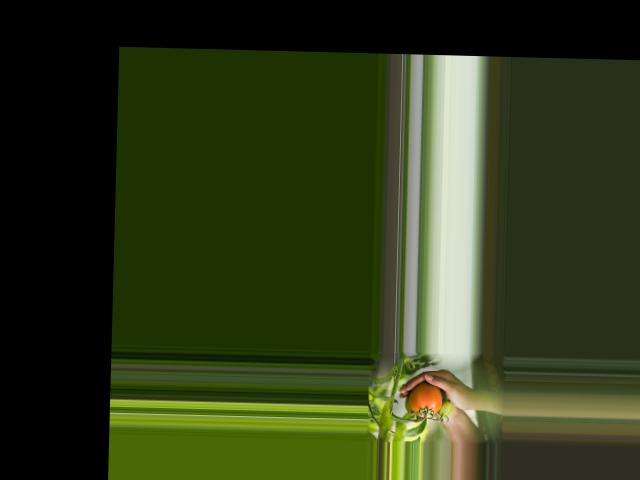tomato: (409, 382, 443, 417)
